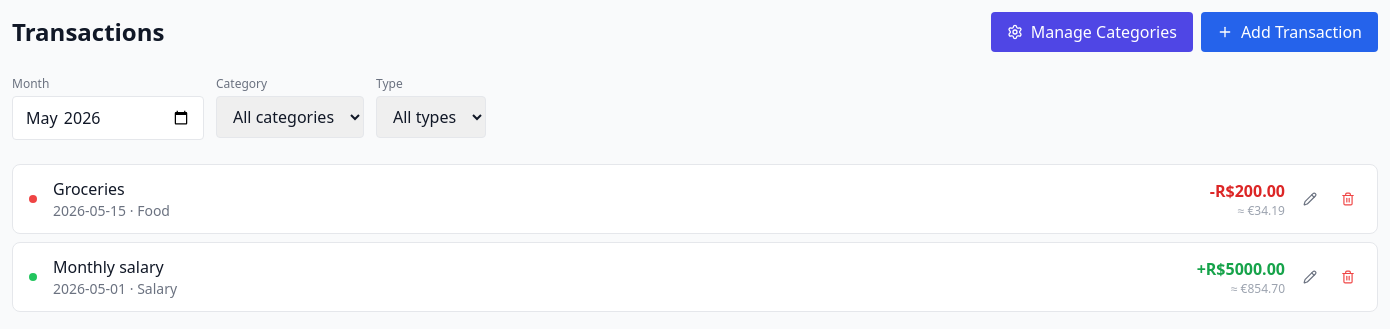
Test: Transactions page › filters by type when expense is selected
Check: the text "Monthly salary" is shown, box [53,255,177,279]
Select "Expense" in the dropdown labelled "Type" at (431, 117), box [376,96,486,138]
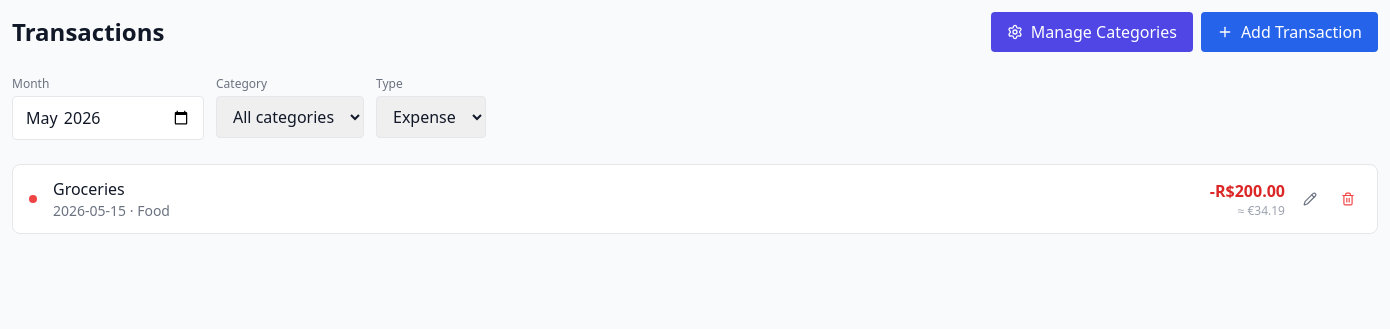
Check: the text "Groceries" is shown, box [53,178,125,200]
Check: the text "Monthly salary" is gone
